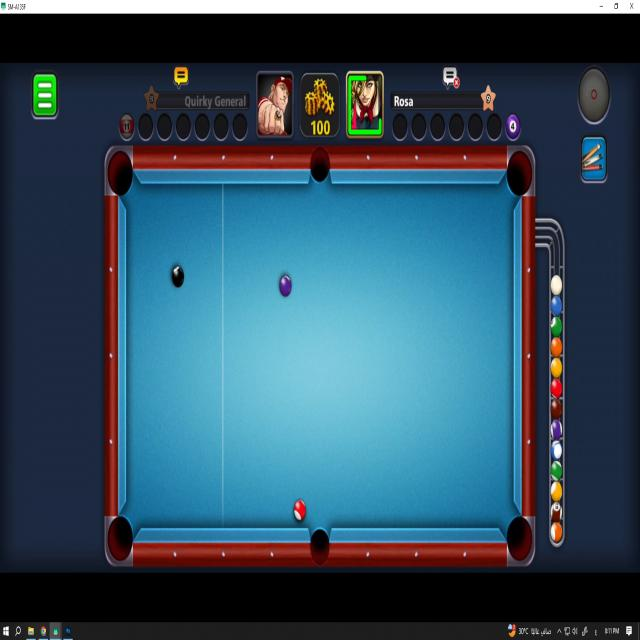object_ball: (172, 266, 184, 287), (294, 500, 305, 520), (280, 276, 291, 296)
